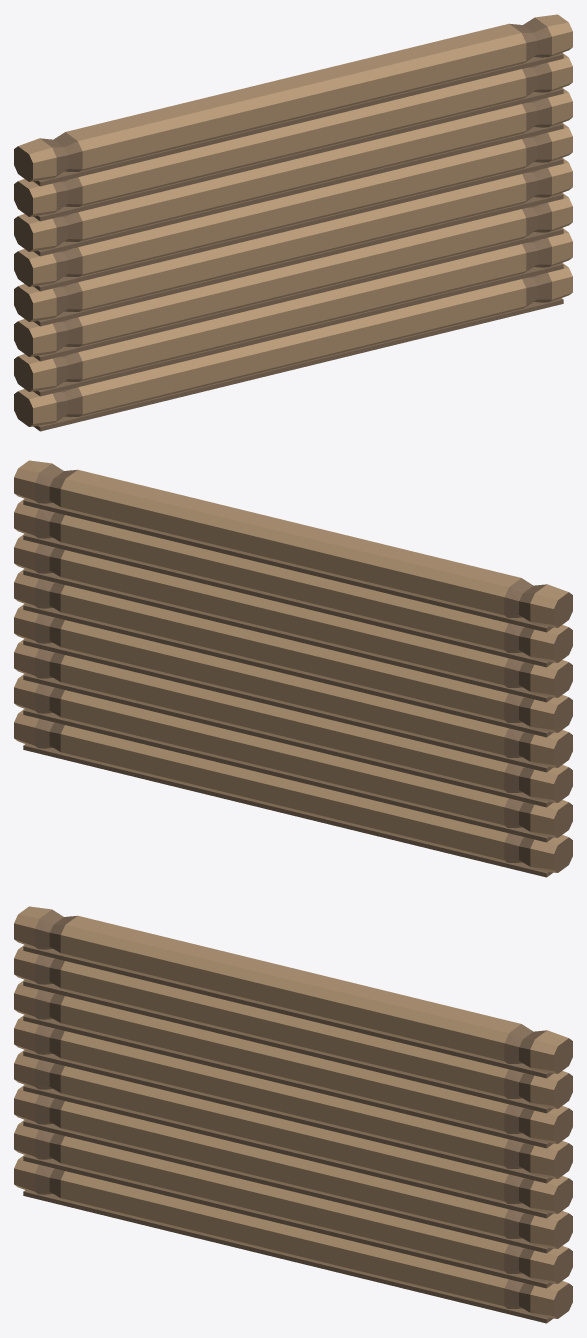
Rendered from laft_wall_solid.glb.
3 views of the same model, one above another, from view 1: azimuth 30°, elevation 25°; view 2: azimuth 150°, elevation 25°; view 3: azimuth 330°, elevation 25° (orthographic).
Parts seen in each view (by area): view 1: laft_wall_solid; view 2: laft_wall_solid; view 3: laft_wall_solid.
Part boxes in pixels (x1=…): laft_wall_solid: x1=14, y1=14, x2=572, y2=431; laft_wall_solid: x1=14, y1=460, x2=572, y2=877; laft_wall_solid: x1=14, y1=906, x2=572, y2=1323.
Bounding box in the file's own units: 4.6 × 2.27 × 0.32.
